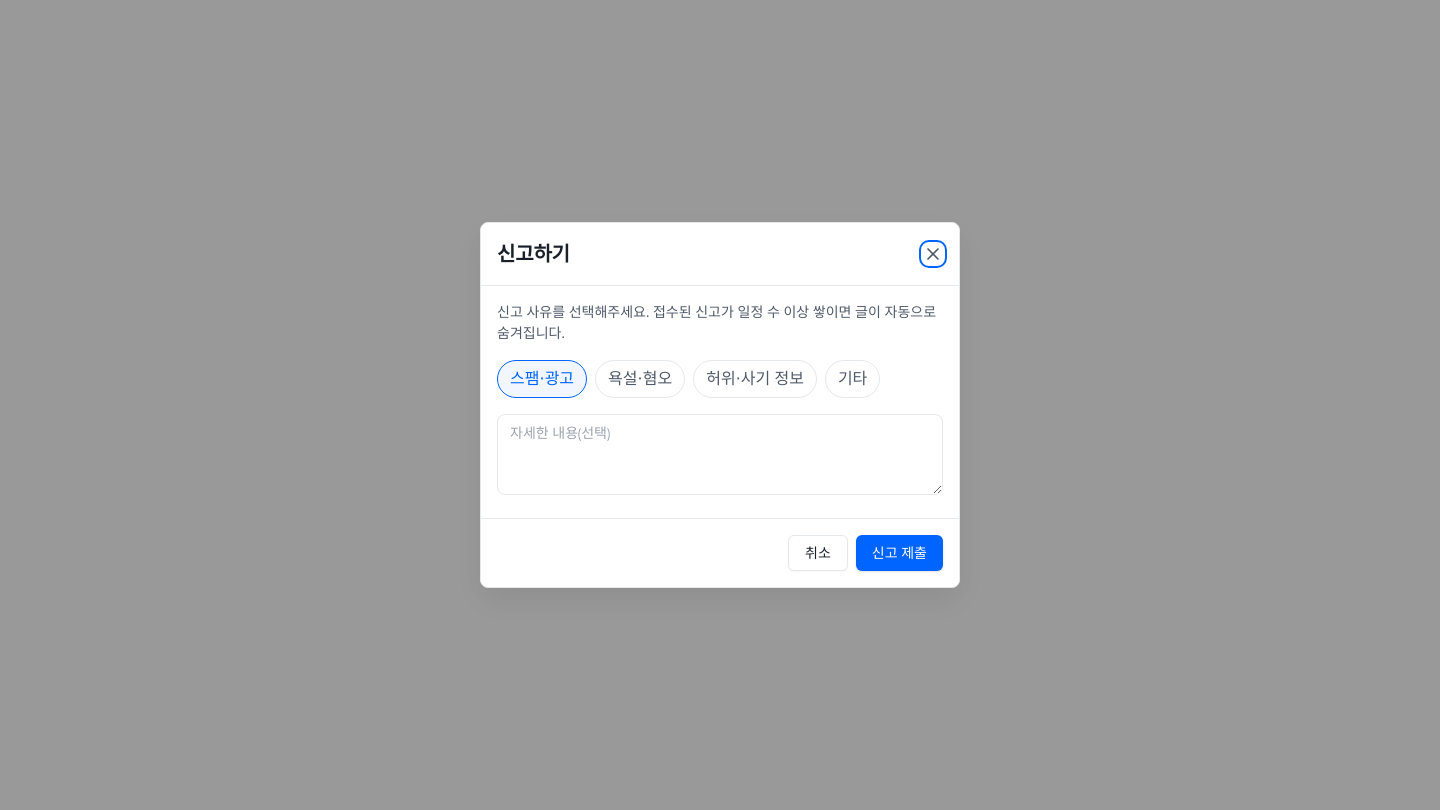
ReportDialog › shows a failure message when the request fails
Click the button "신고 제출": (899, 553) x1=856 y1=535 x2=943 y2=571
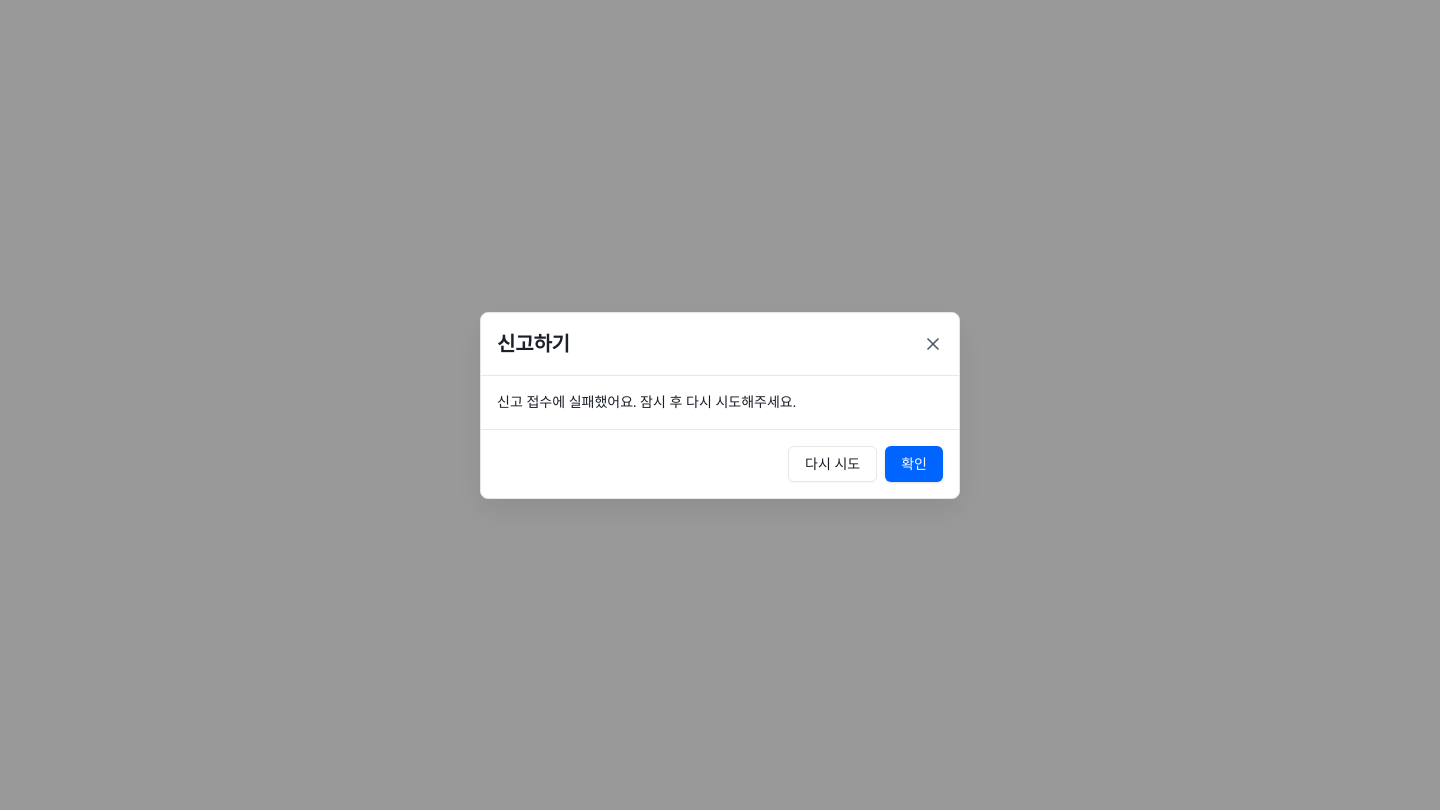
Check: the text "신고 접수에 실패했어요. 잠시 후 다시 시도해주세요." is shown, box x1=497 y1=392 x2=796 y2=410
